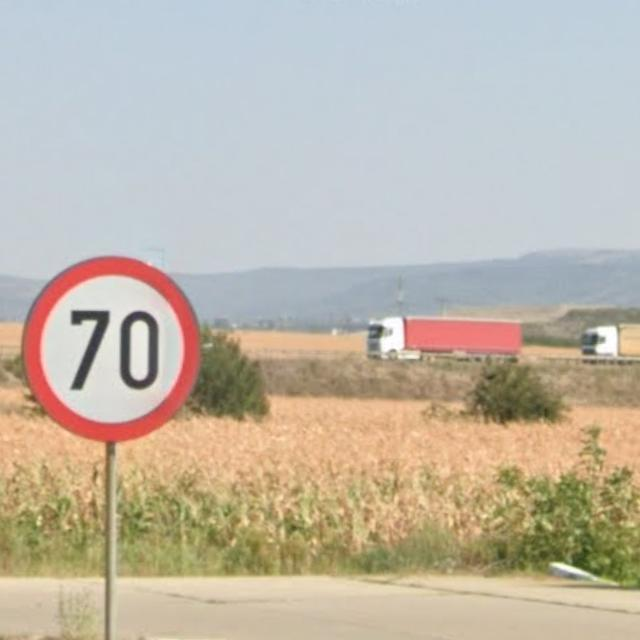forb_speed_over_70: (23, 252, 201, 443)
